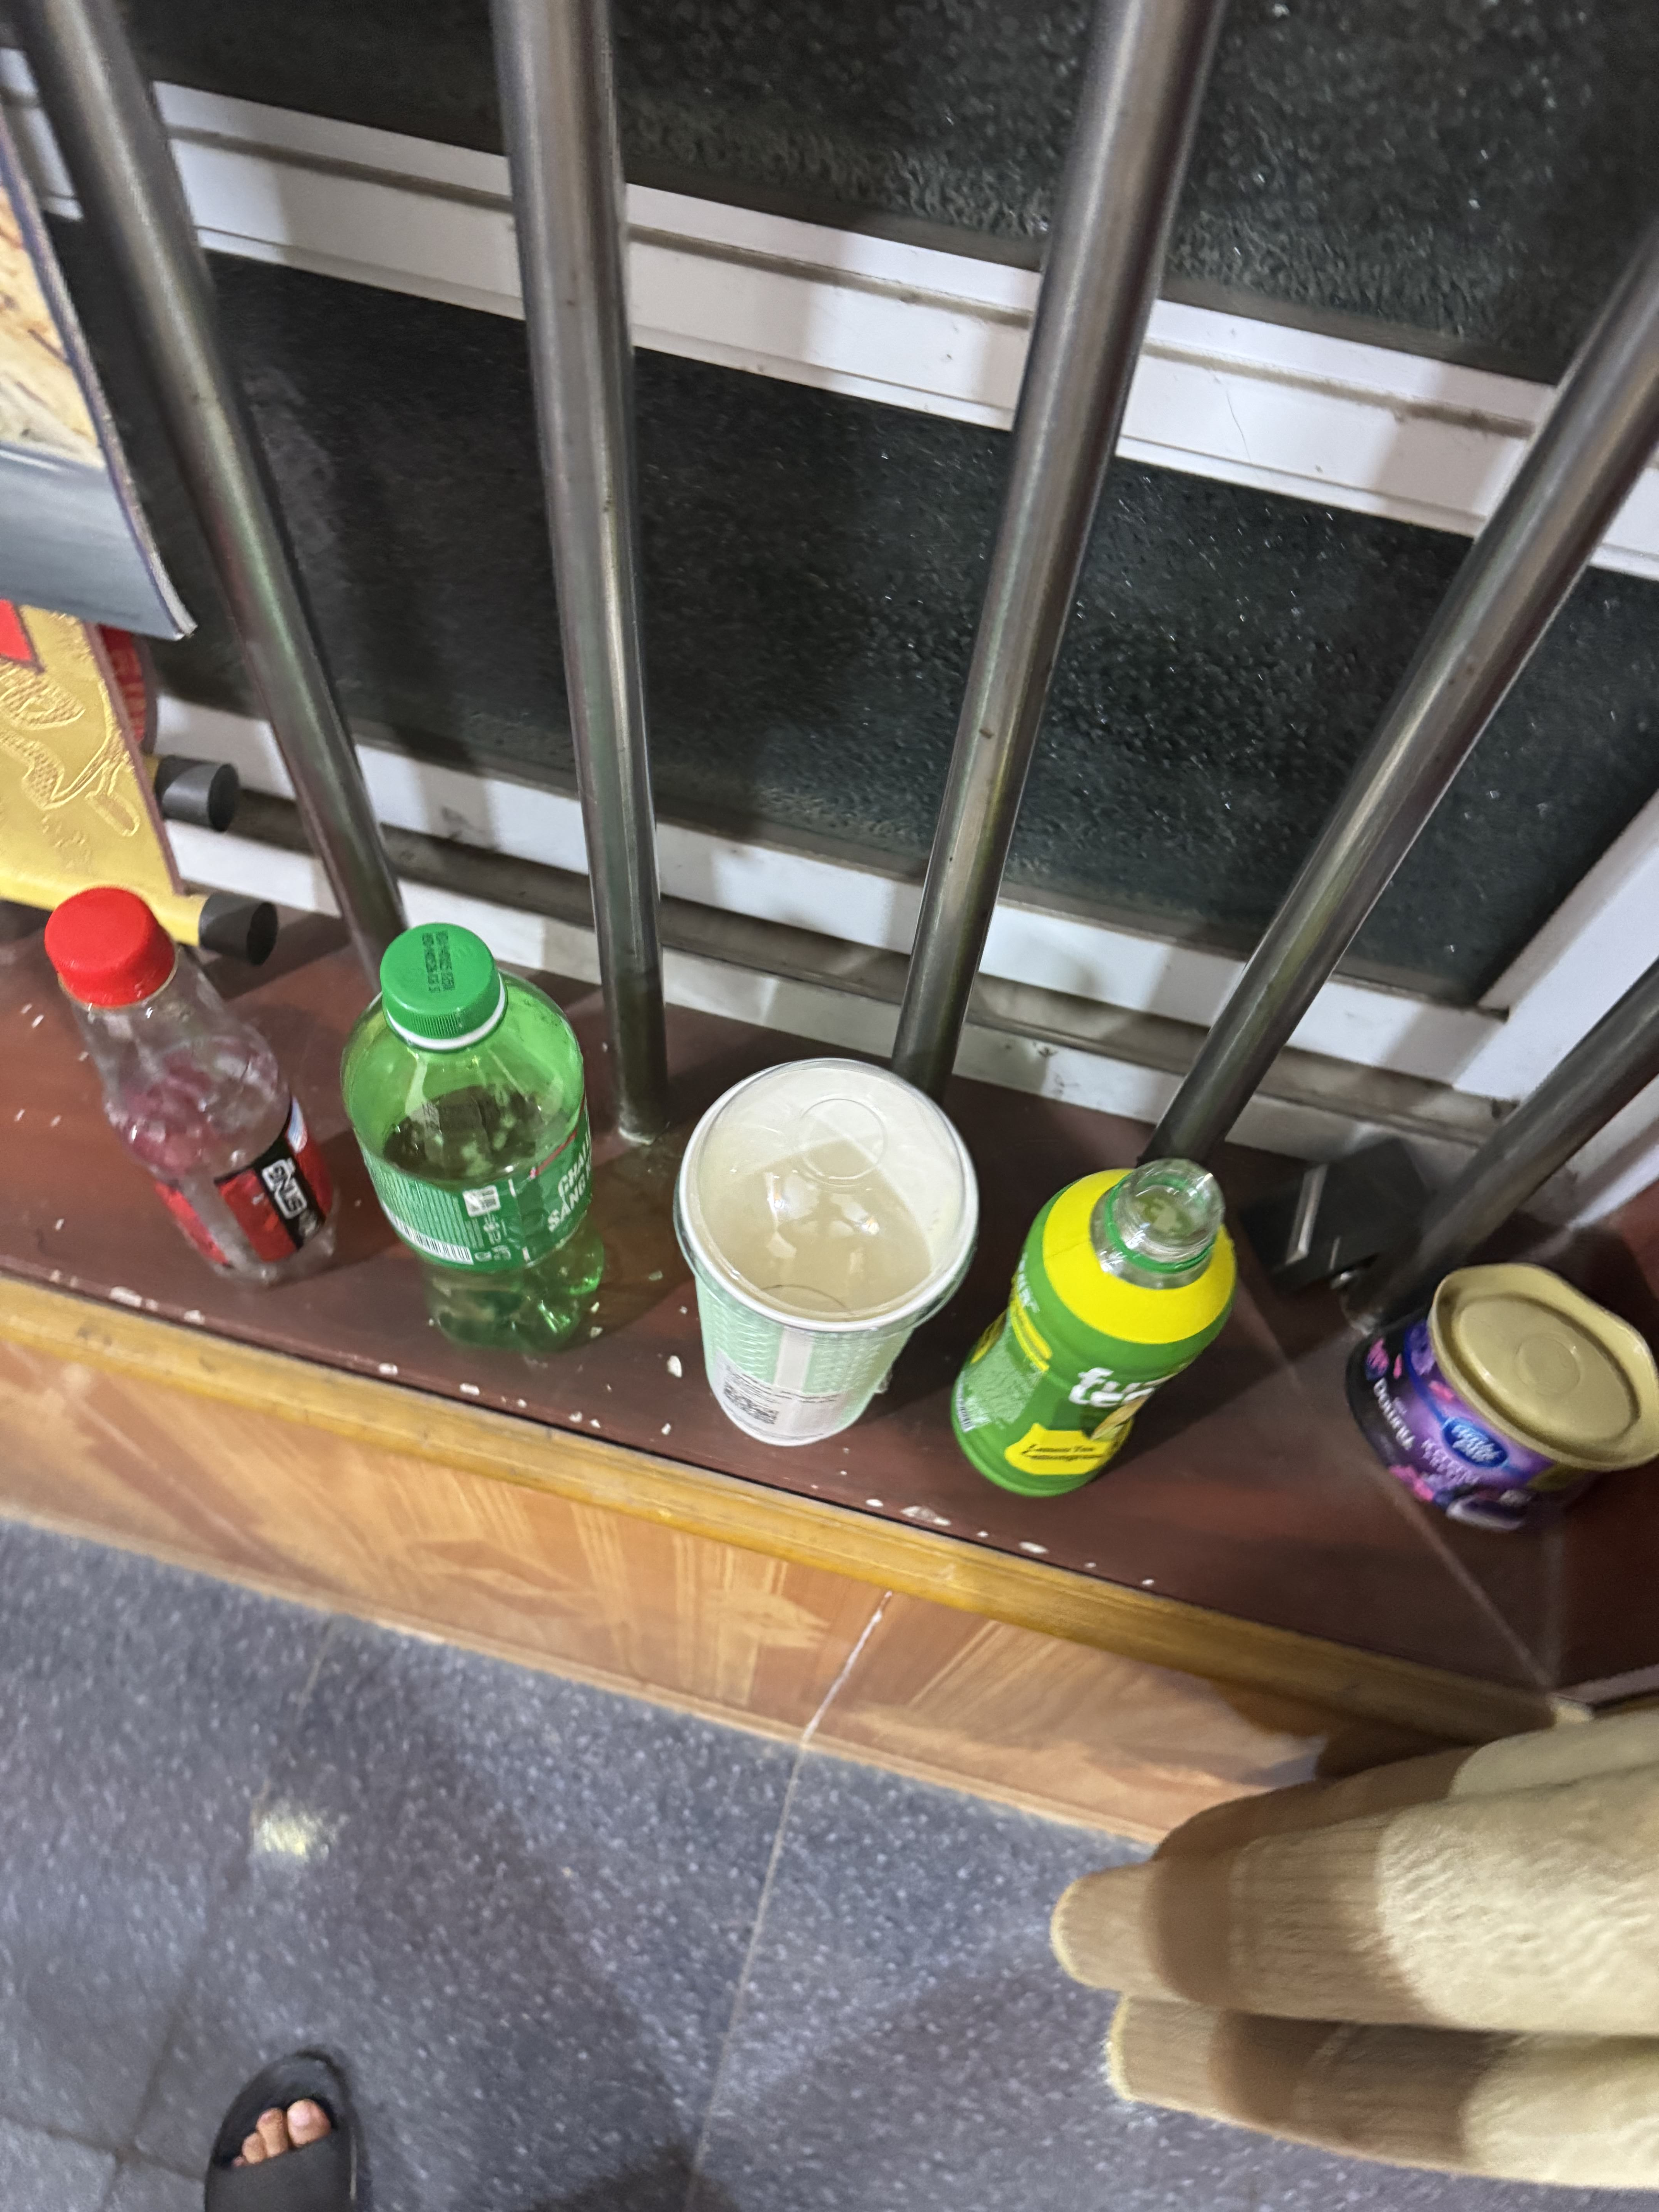2: (657, 989, 993, 1493)
bottle: (314, 852, 655, 1421), (917, 1116, 1319, 1552), (28, 827, 338, 1345)
